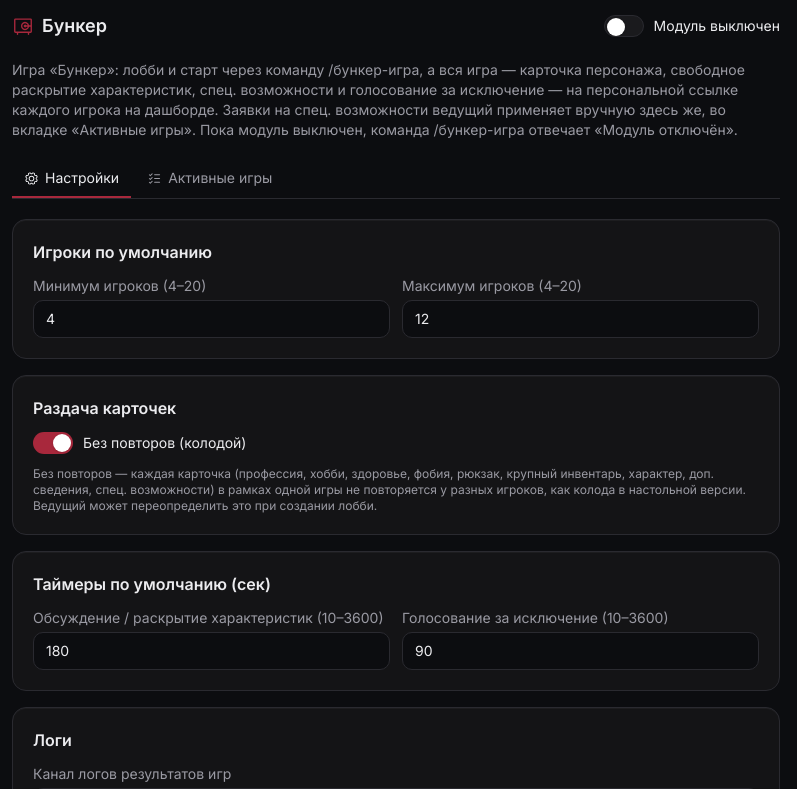
Test: BunkerPage › lists active games with unique-cards status
What coordinates should you click on to do the following:
click the button "Активные игры"
I would click on:
 (210, 179)
Its box is [135,160,284,198].
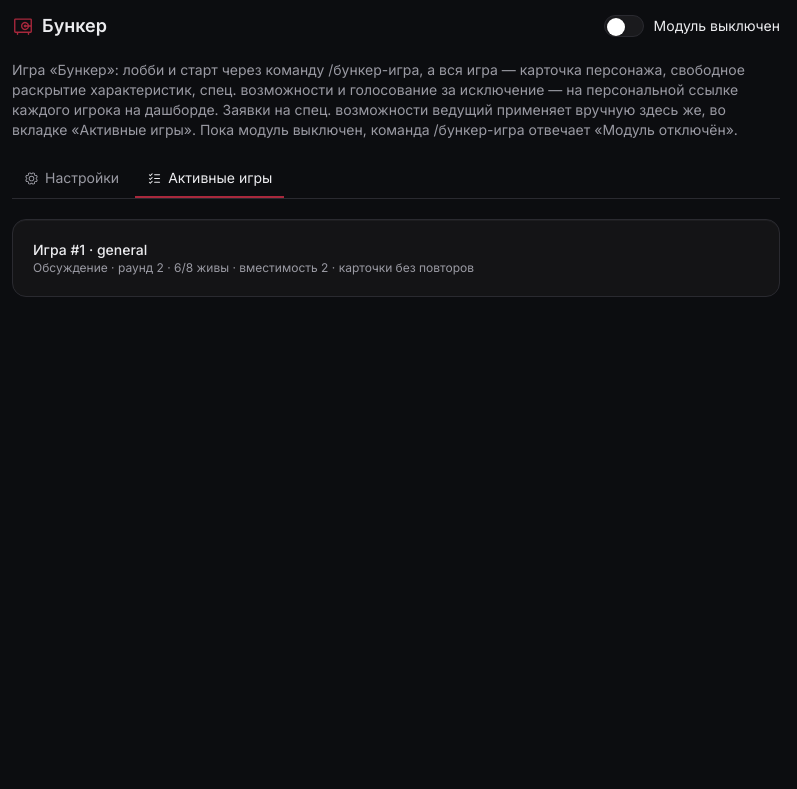
Now the text "Игра #1 · general" is shown, box [33,241,147,258]
Now the text "раунд 2" is shown, box [33,260,229,275]
Now the text "вместимость 2" is shown, box [229,260,328,275]
